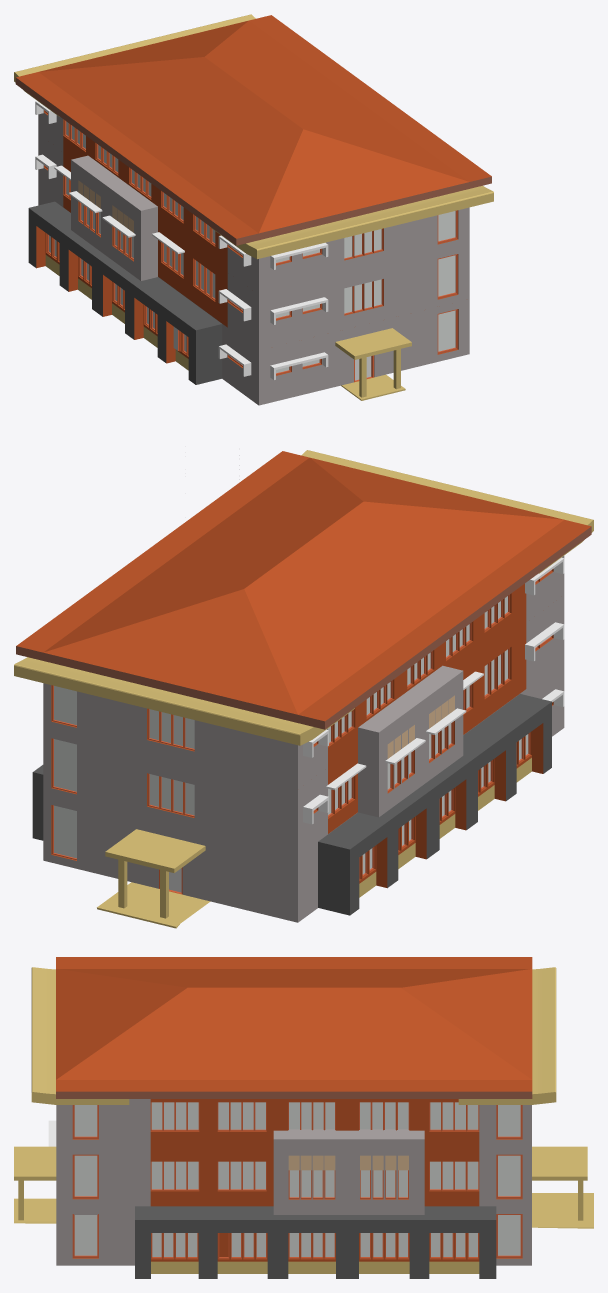
File: Gedung CB.fbx
The picture shows the model from 3 angles, top to bottom: view 1: azimuth 30°, elevation 25°; view 2: azimuth 150°, elevation 25°; view 3: azimuth 270°, elevation 25°; orthographic projection. The views are drawn at different scales.
Parts seen in each view (by area): view 1: CB; view 2: CB; view 3: CB.
Boxes of the visible parts, x1,y1,x2,y2 form: CB: (14,14,493,405); CB: (14,450,593,928); CB: (14,957,593,1278).
Size of the model in its own units: 2664 by 1506 by 3535.
